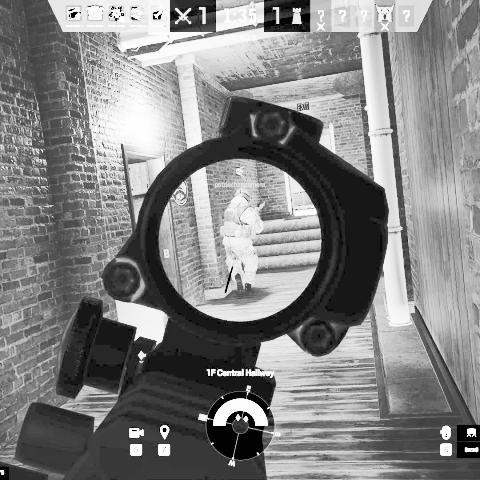Character: (219, 188, 267, 298)
Friend_label: (214, 165, 266, 188)
Head: (234, 188, 252, 205)
